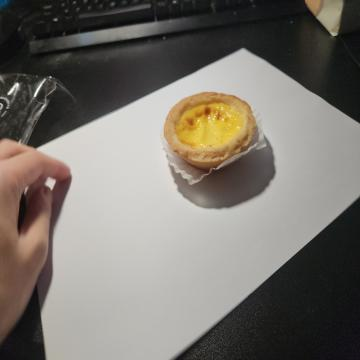EggTart: (165, 90, 255, 170)
